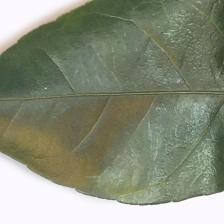healthy: (14, 21, 222, 192)
